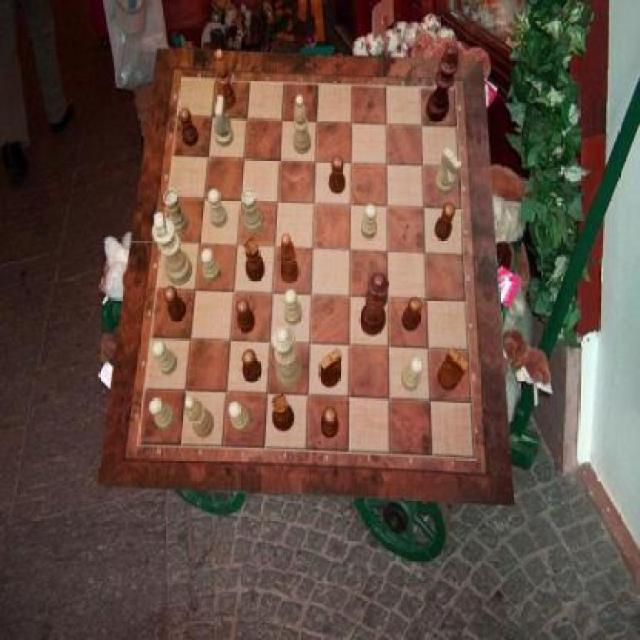bishop: (216, 49, 237, 111), (280, 233, 300, 284)
black-bishop: (426, 45, 460, 122)
black-king: (438, 348, 471, 392), (320, 349, 343, 388)
black-knight: (165, 286, 187, 322), (436, 203, 456, 242), (180, 108, 200, 146), (243, 349, 263, 383), (403, 297, 423, 331), (329, 155, 346, 193), (236, 299, 254, 333), (322, 408, 339, 440)
black-pawn: (358, 272, 388, 336)
black-queen: (244, 235, 266, 281), (272, 394, 296, 432)
black-rook: (184, 395, 213, 438), (294, 96, 311, 156)
white-bishop: (152, 212, 192, 286)
white-king: (436, 149, 462, 197), (216, 97, 234, 149)
white-knight: (149, 397, 176, 431), (152, 342, 177, 376), (401, 357, 424, 391), (208, 189, 228, 228), (229, 401, 250, 434), (202, 249, 222, 283), (285, 290, 302, 326), (360, 205, 378, 239)
white-pawn: (272, 326, 303, 389)
white-queen: (165, 190, 189, 236), (242, 190, 264, 236)
